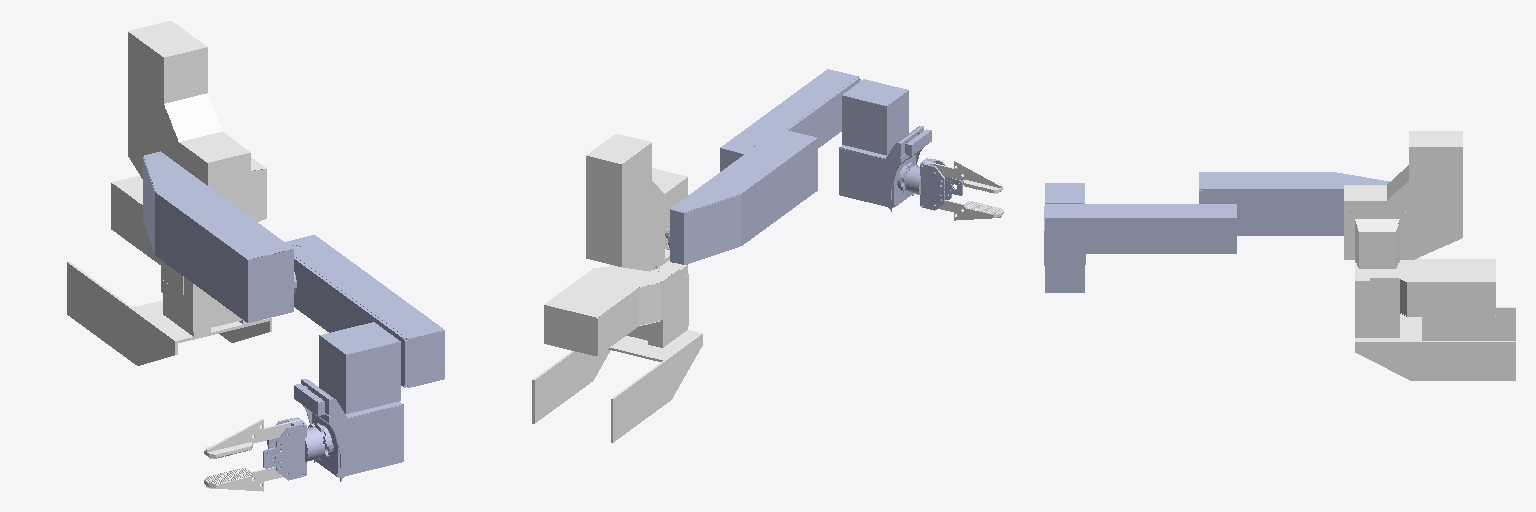
The robot description file, URDF, robot "skai_arm":
<?xml version="1.0" encoding="utf-8"?>
<!-- This URDF was automatically created by SolidWorks to URDF Exporter! Originally created by Stephen Brawner (brawner@gmail.com) 
     Commit Version: 1.6.0-4-g7f85cfe  Build Version: 1.6.7995.38578
     For more information, please see http://wiki.ros.org/sw_urdf_exporter -->
<robot
  name="skai_arm">
  <link
    name="BASE">
    <inertial>
      <origin
        xyz="0.0079534 0.010726 0.071969"
        rpy="0 0 0" />
      <mass
        value="3.1262" />
      <inertia
        ixx="0.044505"
        ixy="2.2803E-05"
        ixz="-0.00099255"
        iyy="0.030652"
        iyz="0.010312"
        izz="0.041054" />
    </inertial>
    <visual>
      <origin
        xyz="0 0 0"
        rpy="0 0 0" />
      <geometry>
        <mesh
          filename="package://arm_rviz/meshes/BASE.STL" />
      </geometry>
      <material
        name="">
        <color
          rgba="1 1 1 1" />
      </material>
    </visual>
    <collision>
      <origin
        xyz="0 0 0"
        rpy="0 0 0" />
      <geometry>
        <mesh
          filename="package://arm_rviz/meshes/BASE.STL" />
      </geometry>
    </collision>
  </link>
  <link
    name="J_1">
    <inertial>
      <origin
        xyz="0.0049849 0.10284 -0.012408"
        rpy="0 0 0" />
      <mass
        value="1.3715" />
      <inertia
        ixx="0.01019"
        ixy="3.5681E-05"
        ixz="-8.4694E-05"
        iyy="0.0051727"
        iyz="0.0018992"
        izz="0.007558" />
    </inertial>
    <visual>
      <origin
        xyz="0 0 0"
        rpy="0 0 0" />
      <geometry>
        <mesh
          filename="package://arm_rviz/meshes/J_1.STL" />
      </geometry>
      <material
        name="">
        <color
          rgba="1 1 1 1" />
      </material>
    </visual>
    <collision>
      <origin
        xyz="0 0 0"
        rpy="0 0 0" />
      <geometry>
        <mesh
          filename="package://arm_rviz/meshes/J_1.STL" />
      </geometry>
    </collision>
  </link>
  <joint
    name="ROT_1"
    type="revolute">
    <origin
      xyz="-0.004 -0.03 0.187"
      rpy="1.5708 0 0" />
    <parent
      link="BASE" />
    <child
      link="J_1" />
    <axis
      xyz="0 -1 0" />
    <limit
      lower="-1.57"
      upper="1.57"
      effort="10"
      velocity="1" />
  </joint>
  <link
    name="J_2">
    <inertial>
      <origin
        xyz="-0.044386 0.012377 0.28555"
        rpy="0 0 0" />
      <mass
        value="0.9257" />
      <inertia
        ixx="0.03108"
        ixy="8.8419E-05"
        ixz="0.0029235"
        iyy="0.031068"
        iyz="2.3458E-05"
        izz="0.0024953" />
    </inertial>
    <visual>
      <origin
        xyz="0 0 0"
        rpy="0 0 0" />
      <geometry>
        <mesh
          filename="package://arm_rviz/meshes/J_2.STL" />
      </geometry>
      <material
        name="">
        <color
          rgba="0.79216 0.81961 0.93333 1" />
      </material>
    </visual>
    <collision>
      <origin
        xyz="0 0 0"
        rpy="0 0 0" />
      <geometry>
        <mesh
          filename="package://arm_rviz/meshes/J_2.STL" />
      </geometry>
    </collision>
  </link>
  <joint
    name="PITCH_1"
    type="revolute">
    <origin
      xyz="-0.053 0.095 0"
      rpy="0 0 0" />
    <parent
      link="J_1" />
    <child
      link="J_2" />
    <axis
      xyz="1 0 0" />
    <limit
      lower="-3.14"
      upper="0.05"
      effort="10"
      velocity="1" />
  </joint>
  <link
    name="J_3">
    <inertial>
      <origin
        xyz="0.043959 0.0012504 0.33095"
        rpy="0 0 0" />
      <mass
        value="0.89411" />
      <inertia
        ixx="0.018389"
        ixy="-7.7356E-07"
        ixz="-0.00084534"
        iyy="0.018267"
        iyz="0.00014053"
        izz="0.0015401" />
    </inertial>
    <visual>
      <origin
        xyz="0 0 0"
        rpy="0 0 0" />
      <geometry>
        <mesh
          filename="package://arm_rviz/meshes/J_3.STL" />
      </geometry>
      <material
        name="">
        <color
          rgba="0.79216 0.81961 0.93333 1" />
      </material>
    </visual>
    <collision>
      <origin
        xyz="0 0 0"
        rpy="0 0 0" />
      <geometry>
        <mesh
          filename="package://arm_rviz/meshes/J_3.STL" />
      </geometry>
    </collision>
  </link>
  <joint
    name="PITCH_2"
    type="revolute">
    <origin
      xyz="-0.01975 0 0.429"
      rpy="0 0 0" />
    <parent
      link="J_2" />
    <child
      link="J_3" />
    <axis
      xyz="-1 0 0" />
    <limit
      lower="-2.7"
      upper="2.7"
      effort="10"
      velocity="1" />
  </joint>
  <link
    name="J_4">
    <inertial>
      <origin
        xyz="-0.07 -0.037074 -5.7068E-06"
        rpy="0 0 0" />
      <mass
        value="0.69469" />
      <inertia
        ixx="0.0011674"
        ixy="-0.00010459"
        ixz="2.4362E-07"
        iyy="0.0011193"
        iyz="3.3035E-07"
        izz="0.0012852" />
    </inertial>
    <visual>
      <origin
        xyz="0 0 0"
        rpy="0 0 0" />
      <geometry>
        <mesh
          filename="package://arm_rviz/meshes/J_4.STL" />
      </geometry>
      <material
        name="">
        <color
          rgba="0.79216 0.81961 0.93333 1" />
      </material>
    </visual>
    <collision>
      <origin
        xyz="0 0 0"
        rpy="0 0 0" />
      <geometry>
        <mesh
          filename="package://arm_rviz/meshes/J_4.STL" />
      </geometry>
    </collision>
  </link>
  <joint
    name="PITCH_3"
    type="revolute">
    <origin
      xyz="0.00825 0 0.41"
      rpy="0 0 0" />
    <parent
      link="J_3" />
    <child
      link="J_4" />
    <axis
      xyz="1 0 0" />
    <limit
      lower="-1.57"
      upper="1.57"
      effort="10"
      velocity="1" />
  </joint>
  <link
    name="J_5">
    <inertial>
      <origin
        xyz="-0.044658 -0.048391 5.6298E-05"
        rpy="0 0 0" />
      <mass
        value="1.0061" />
      <inertia
        ixx="0.0027189"
        ixy="0.00057915"
        ixz="2.5834E-06"
        iyy="0.002269"
        iyz="-2.933E-06"
        izz="0.0032126" />
    </inertial>
    <visual>
      <origin
        xyz="0 0 0"
        rpy="0 0 0" />
      <geometry>
        <mesh
          filename="package://arm_rviz/meshes/J_5.STL" />
      </geometry>
      <material
        name="">
        <color
          rgba="0.79216 0.81961 0.93333 1" />
      </material>
    </visual>
    <collision>
      <origin
        xyz="0 0 0"
        rpy="0 0 0" />
      <geometry>
        <mesh
          filename="package://arm_rviz/meshes/J_5.STL" />
      </geometry>
    </collision>
  </link>
  <joint
    name="ROT_2"
    type="revolute">
    <origin
      xyz="-0.075 -0.082 0"
      rpy="0 0 0" />
    <parent
      link="J_4" />
    <child
      link="J_5" />
    <axis
      xyz="0 1 0" />
    <limit
      lower="-1.57"
      upper="1.57"
      effort="10"
      velocity="1" />
  </joint>
  <link
    name="J_6">
    <inertial>
      <origin
        xyz="0.15572 0.00018089 0.0036627"
        rpy="0 0 0" />
      <mass
        value="0.19696" />
      <inertia
        ixx="0.00021541"
        ixy="8.9228E-09"
        ixz="4.5806E-06"
        iyy="0.0001125"
        iyz="5.9747E-07"
        izz="0.00022755" />
    </inertial>
    <visual>
      <origin
        xyz="0 0 0"
        rpy="0 0 0" />
      <geometry>
        <mesh
          filename="package://arm_rviz/meshes/J_6.STL" />
      </geometry>
      <material
        name="">
        <color
          rgba="0.79216 0.81961 0.93333 1" />
      </material>
    </visual>
    <collision>
      <origin
        xyz="0 0 0"
        rpy="0 0 0" />
      <geometry>
        <mesh
          filename="package://arm_rviz/meshes/J_6.STL" />
      </geometry>
    </collision>
  </link>
  <joint
    name="ROT_3"
    type="revolute">
    <origin
      xyz="-0.29365 -0.072 -0.0028845"
      rpy="0 0 0" />
    <parent
      link="J_5" />
    <child
      link="J_6" />
    <axis
      xyz="1 0 0" />
    <limit
      lower="-1.57"
      upper="1.57"
      effort="10"
      velocity="1" />
  </joint>
  <link
    name="F_1">
    <inertial>
      <origin
        xyz="0.030661 0.039212 -0.00014822"
        rpy="0 0 0" />
      <mass
        value="0.058475" />
      <inertia
        ixx="6.6803E-06"
        ixy="7.3482E-07"
        ixz="3.7258E-08"
        iyy="0.00010292"
        iyz="-2.8903E-10"
        izz="0.0001014" />
    </inertial>
    <visual>
      <origin
        xyz="0 0 0"
        rpy="0 0 0" />
      <geometry>
        <mesh
          filename="package://arm_rviz/meshes/F_1.STL" />
      </geometry>
      <material
        name="">
        <color
          rgba="0.99608 0.99608 1 1" />
      </material>
    </visual>
    <collision>
      <origin
        xyz="0 0 0"
        rpy="0 0 0" />
      <geometry>
        <mesh
          filename="package://arm_rviz/meshes/F_1.STL" />
      </geometry>
    </collision>
  </link>
  <joint
    name="FGR_1"
    type="prismatic">
    <origin
      xyz="0 0 0"
      rpy="0 0 0" />
    <parent
      link="J_6" />
    <child
      link="F_1" />
    <axis
      xyz="0 1 0" />
    <limit
      lower="-0.026"
      upper="0"
      effort="10"
      velocity="1" />
  </joint>
  <link
    name="F_2">
    <inertial>
      <origin
        xyz="0.030661 -0.039212 0.0001241"
        rpy="0 0 0" />
      <mass
        value="0.058475" />
      <inertia
        ixx="6.6803E-06"
        ixy="-7.3482E-07"
        ixz="3.7258E-08"
        iyy="0.00010292"
        iyz="2.8903E-10"
        izz="0.0001014" />
    </inertial>
    <visual>
      <origin
        xyz="0 0 0"
        rpy="0 0 0" />
      <geometry>
        <mesh
          filename="package://arm_rviz/meshes/F_2.STL" />
      </geometry>
      <material
        name="">
        <color
          rgba="0.99608 0.99608 1 1" />
      </material>
    </visual>
    <collision>
      <origin
        xyz="0 0 0"
        rpy="0 0 0" />
      <geometry>
        <mesh
          filename="package://arm_rviz/meshes/F_2.STL" />
      </geometry>
    </collision>
  </link>
  <joint
    name="FGR_2"
    type="prismatic">
    <origin
      xyz="0 0 0"
      rpy="0 0 0" />
    <parent
      link="J_6" />
    <child
      link="F_2" />
    <axis
      xyz="0 1 0" />
    <limit
      lower="0"
      upper="0.026"
      effort="10"
      velocity="1" />
  </joint>
  <!-- <link name="link_tcp">
  <visual>
    <geometry>
      <sphere radius="0.008"/>
    </geometry>
    <material name="green">
      <color rgba="0 1 0 1"/>
    </material>
  </visual>

  <collision>
    <geometry>
      <sphere radius="0.005"/>
    </geometry>
  </collision>
</link>

<joint name="tcp_joint" type="fixed">
  <parent link="J_6"/>
  <child link="link_tcp"/>
  <origin xyz="0 0 0" rpy="0 0 0"/>
</joint> -->
</robot>

--- Facts derived from the render (not from the file) ---
3 views of the same robot in one strip: view 1: azimuth 30°, elevation 25°; view 2: azimuth 150°, elevation 25°; view 3: azimuth 270°, elevation 25° (orthographic).
Robot: skai_arm — 9 links, 8 joints (6 revolute, 2 prismatic); root link BASE; default pose: all joints at 0.
Links seen in each view (by area): view 1: J_2, J_1, BASE, J_3, J_4, J_5, J_6, F_1, F_2; view 2: BASE, J_2, J_1, J_3, J_5, J_4, J_6, F_1, F_2; view 3: BASE, J_1, J_3, J_2, J_5, J_4.
Boxes of the visible links, <box> form: J_2: <box>143,151,296,322</box>; J_1: <box>128,21,266,221</box>; BASE: <box>67,176,271,365</box>; J_3: <box>285,235,444,387</box>; J_4: <box>319,322,400,413</box>; J_5: <box>294,379,403,481</box>; J_6: <box>263,417,328,480</box>; F_1: <box>204,419,299,458</box>; F_2: <box>204,467,287,491</box>; BASE: <box>532,260,702,442</box>; J_2: <box>665,129,817,264</box>; J_1: <box>586,134,687,271</box>; J_3: <box>720,69,860,171</box>; J_5: <box>839,126,931,211</box>; J_4: <box>842,79,908,155</box>; J_6: <box>901,158,962,210</box>; F_1: <box>925,160,1002,193</box>; F_2: <box>935,200,1003,220</box>; BASE: <box>1355,258,1515,380</box>; J_1: <box>1344,131,1462,268</box>; J_3: <box>1045,204,1236,253</box>; J_2: <box>1199,172,1389,235</box>; J_5: <box>1044,206,1085,292</box>; J_4: <box>1045,183,1084,203</box>.
Bounding box of the posed robot: 0.5982 × 1.27 × 0.6647 m (x, y, z).
9 mesh visuals loaded from 9 distinct referenced files (9 binary STL).
